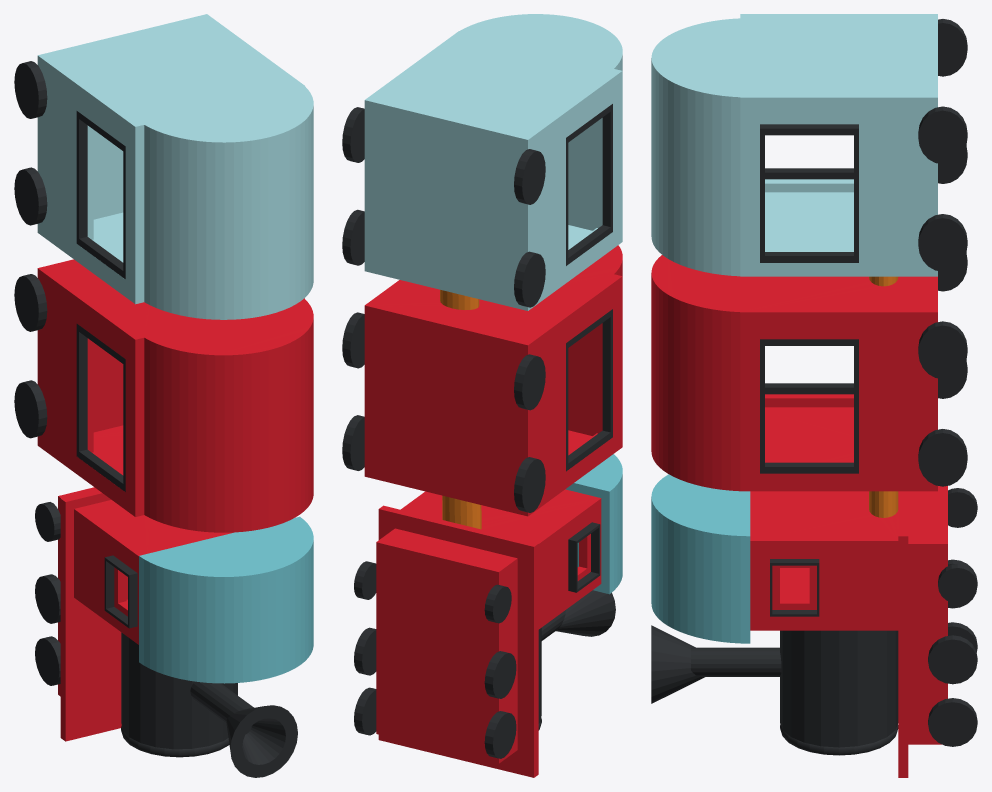
File: tinker.obj
3 views of the same model, side by side, from view 1: azimuth 30°, elevation 25°; view 2: azimuth 150°, elevation 25°; view 3: azimuth 270°, elevation 25° (orthographic). The views are drawn at different scales.
Parts seen in each view (by area): view 1: group_0_15277357, group_0_11593967, group_0_2829873, group_0_7720667; view 2: group_0_15277357, group_0_11593967, group_0_2829873, group_0_7720667, group_0_16089887; view 3: group_0_15277357, group_0_11593967, group_0_2829873, group_0_7720667, group_0_16089887.
Boxes of the visible parts, bbox=[...] form: group_0_15277357: bbox=[37, 259, 313, 741]; group_0_11593967: bbox=[37, 14, 313, 319]; group_0_2829873: bbox=[14, 61, 297, 777]; group_0_7720667: bbox=[139, 516, 313, 683]; group_0_15277357: bbox=[364, 245, 622, 777]; group_0_11593967: bbox=[364, 14, 622, 310]; group_0_2829873: bbox=[342, 104, 615, 758]; group_0_7720667: bbox=[565, 454, 622, 594]; group_0_16089887: bbox=[440, 289, 481, 529]; group_0_15277357: bbox=[651, 255, 947, 777]; group_0_11593967: bbox=[651, 14, 937, 276]; group_0_2829873: bbox=[651, 19, 977, 755]; group_0_7720667: bbox=[651, 474, 750, 643]; group_0_16089887: bbox=[869, 276, 898, 517].
Bounding box in the file's own units: 22 × 76 × 33.
